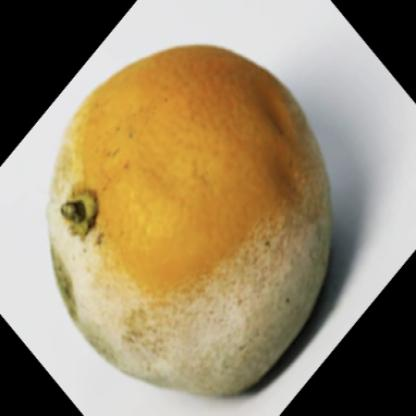rotten: (48, 45, 335, 399)
